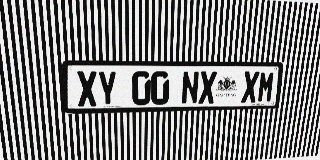0: (132, 71, 151, 105), (151, 71, 169, 105)
M: (257, 71, 276, 103)
N: (181, 71, 199, 104)
X: (76, 71, 98, 107), (198, 71, 217, 104), (241, 71, 260, 103)
Y: (97, 71, 117, 106)
